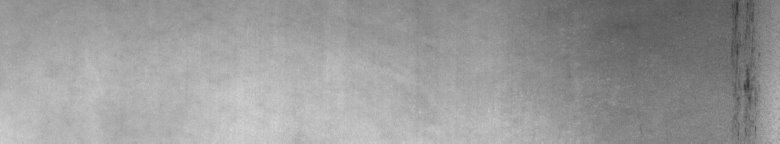ka: (725, 4, 763, 136)
